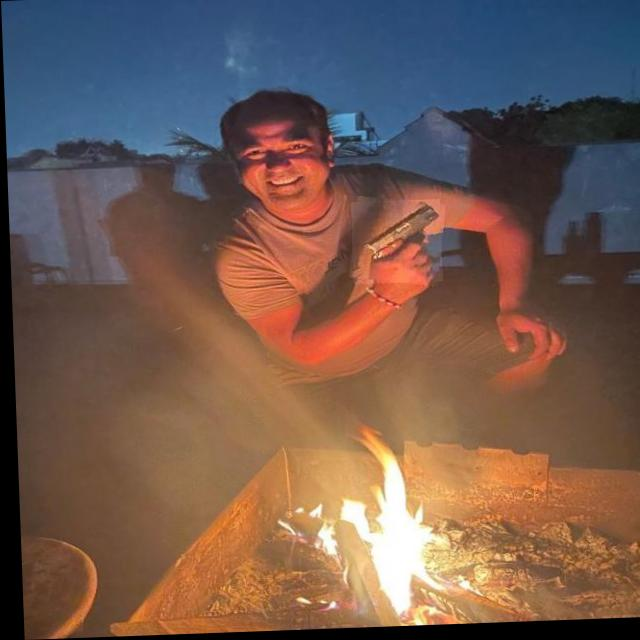handgun: (346, 198, 442, 289)
